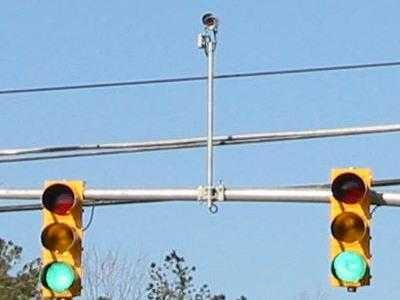green: (39, 168, 85, 300), (328, 160, 370, 289), (326, 249, 375, 288), (42, 255, 83, 298)
